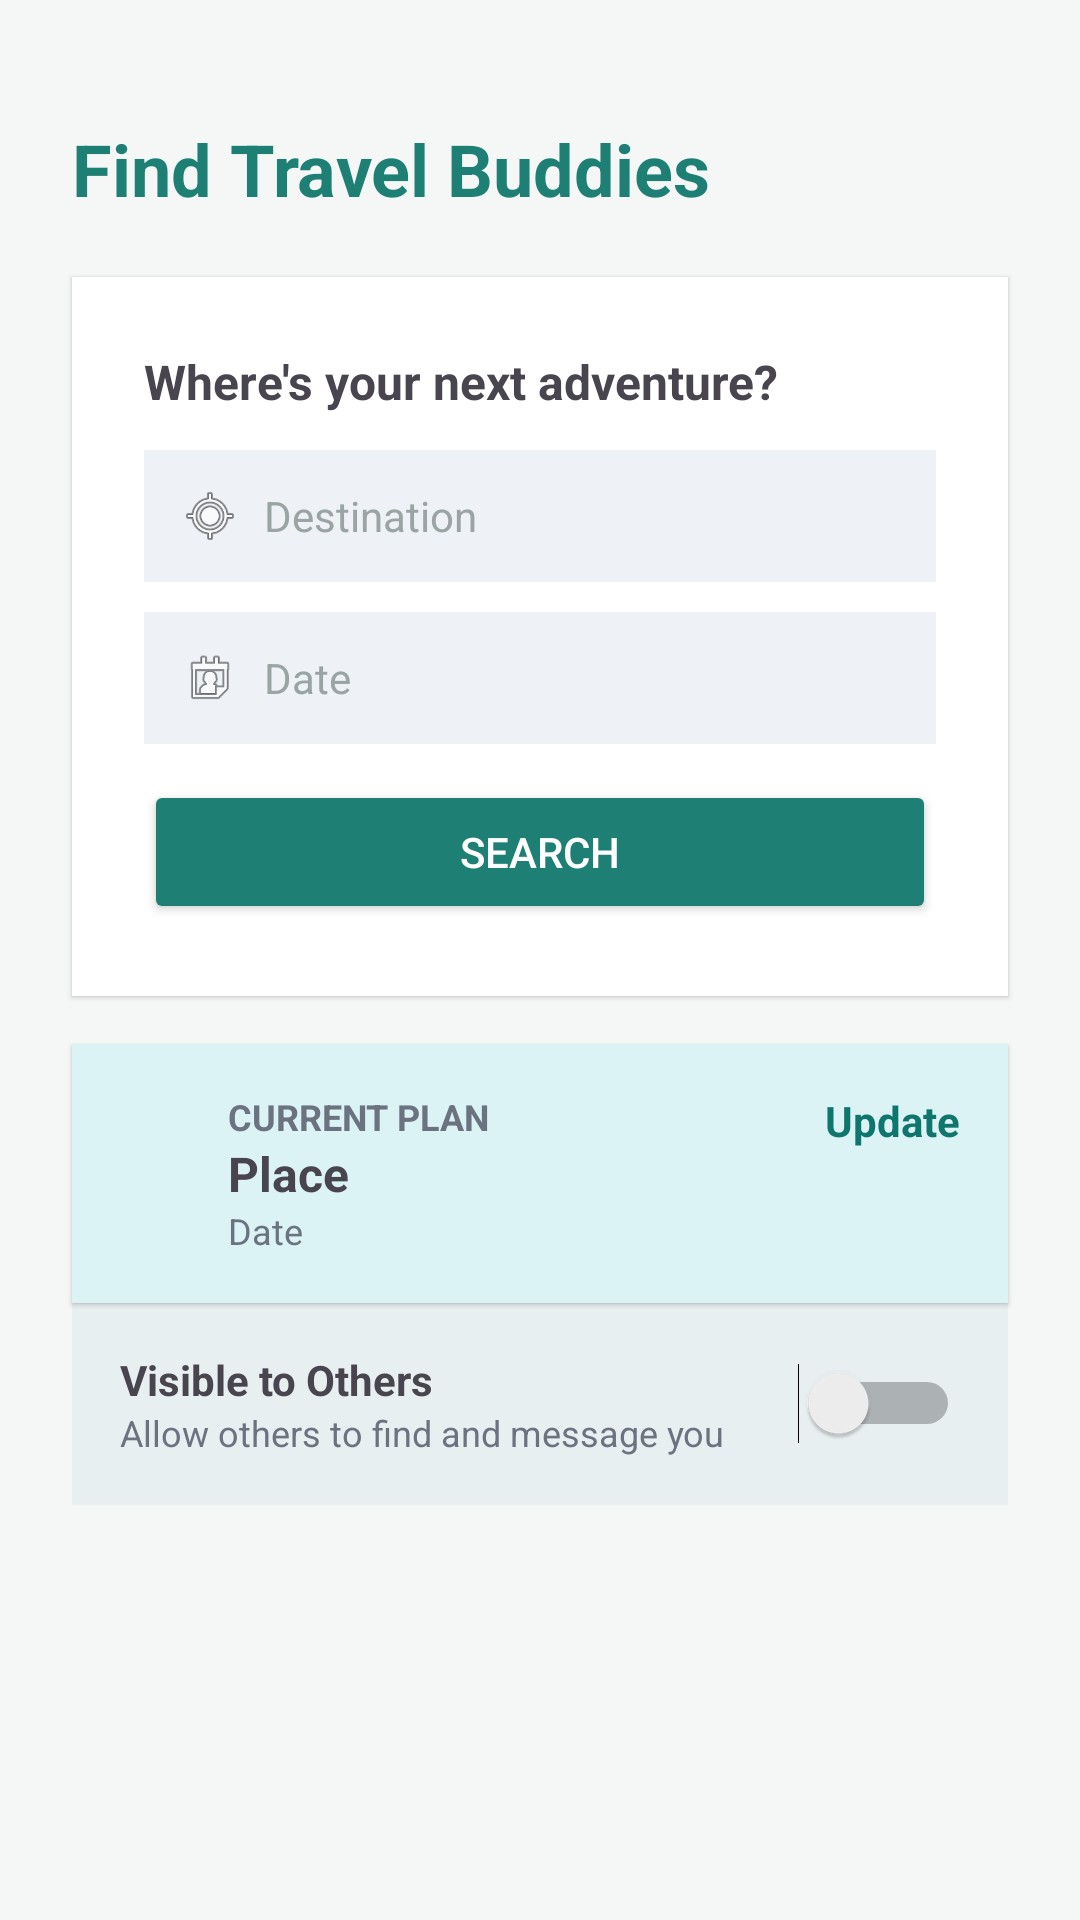

Icon bounding boxes for this 1080x1920 phone screenshot, format [x1,y1,x2,y2]:
calendar: [190,655,230,700]
mylocation: [186,492,234,540]
